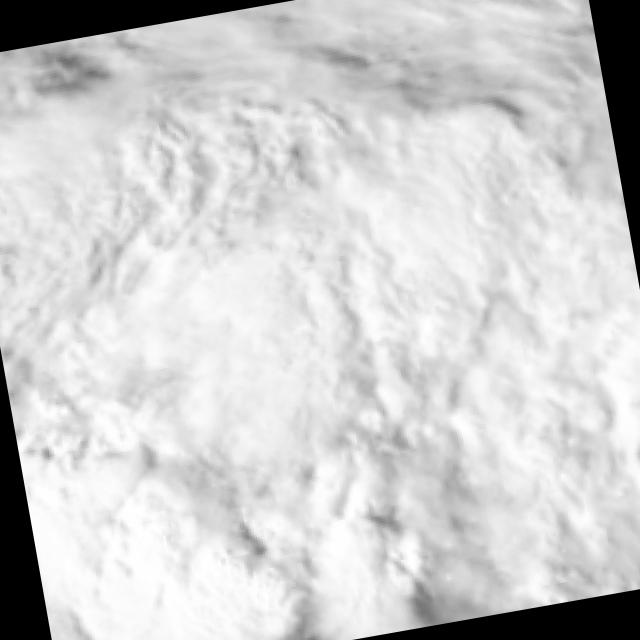CB: (342, 117, 521, 303), (82, 511, 272, 640)
